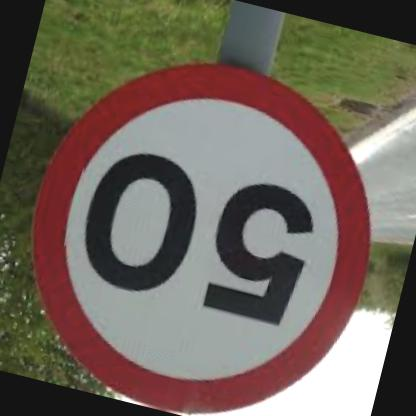speedlimit: (0, 28, 411, 415)
